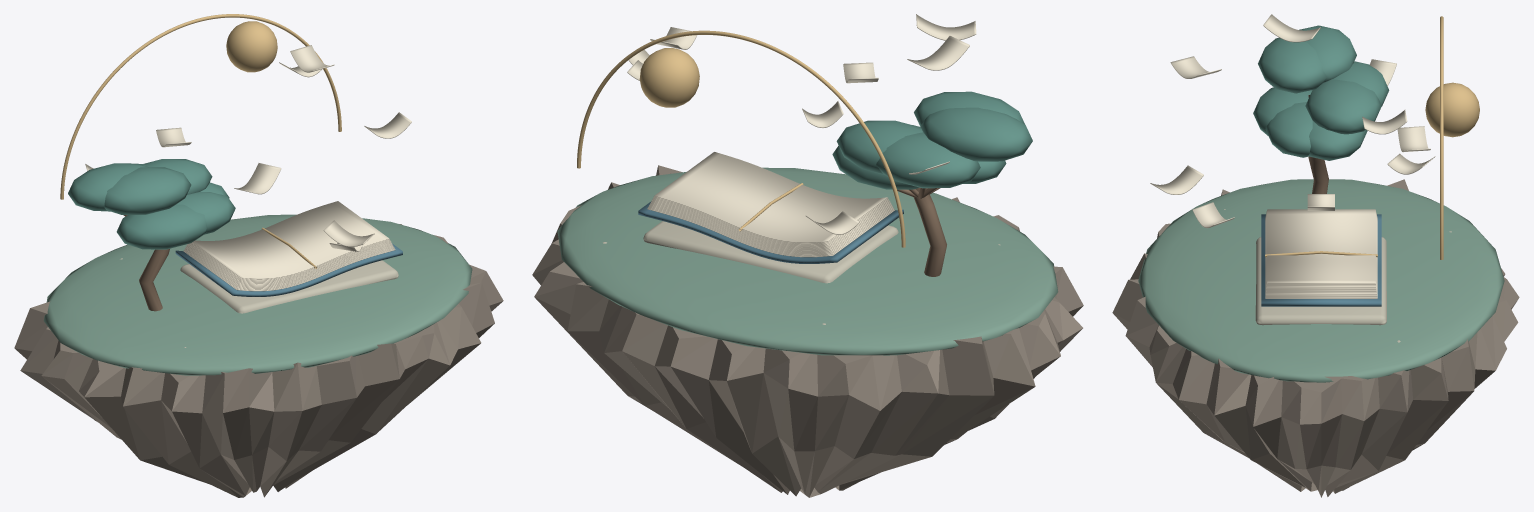
Rendered from book-island.glb.
3 views of the same model, side by side, from view 1: azimuth 30°, elevation 25°; view 2: azimuth 150°, elevation 25°; view 3: azimuth 270°, elevation 25° (orthographic). The views are drawn at different scales.
Parts seen in each view (by area): view 1: Island strata, Living moss, Book leaf 13, Bonsai crown.005, Book pedestal, Bonsai crown, Reading moon, Bonsai crown.002, Celestial arch, Open book cover, Bonsai crown.003, Bonsai crown.001 (+5 smaller); view 2: Island strata, Living moss, Book leaf 13, Bonsai crown.002, Book pedestal, Bonsai crown.004, Reading moon, Celestial arch, Bonsai crown.001, Open book cover, Bonsai crown.005, Bonsai trunk (+4 smaller); view 3: Living moss, Island strata, Book leaf 13, Book pedestal, Bonsai crown.001, Bonsai crown.005, Reading moon, Bonsai crown.003, Open book cover, Bonsai crown.002, Bonsai crown.006, Bonsai crown (+11 smaller).
Boxes of the visible parts, x1=… form: Island strata: x1=14, y1=224, x2=503, y2=497; Living moss: x1=43, y1=214, x2=472, y2=375; Book leaf 13: x1=192, y1=201, x2=389, y2=279; Bonsai crown.005: x1=104, y1=167, x2=191, y2=214; Book pedestal: x1=180, y1=260, x2=398, y2=313; Bonsai crown: x1=116, y1=204, x2=207, y2=249; Reading moon: x1=226, y1=21, x2=277, y2=72; Bonsai crown.002: x1=68, y1=163, x2=148, y2=211; Celestial arch: x1=60, y1=14, x2=341, y2=199; Open book cover: x1=175, y1=243, x2=402, y2=296; Bonsai crown.003: x1=177, y1=192, x2=235, y2=234; Bonsai crown.001: x1=144, y1=159, x2=212, y2=194; Island strata: x1=532, y1=165, x2=1083, y2=497; Living moss: x1=557, y1=167, x2=1058, y2=355; Book leaf 13: x1=654, y1=152, x2=887, y2=242; Bonsai crown.002: x1=920, y1=107, x2=1032, y2=161; Book pedestal: x1=643, y1=221, x2=898, y2=283; Bonsai crown.004: x1=876, y1=132, x2=980, y2=188; Reading moon: x1=639, y1=48, x2=699, y2=107; Celestial arch: x1=577, y1=30, x2=905, y2=247; Bonsai crown.001: x1=836, y1=120, x2=922, y2=174; Open book cover: x1=638, y1=201, x2=903, y2=263; Bonsai crown.005: x1=914, y1=91, x2=1025, y2=126; Bonsai trunk: x1=913, y1=187, x2=946, y2=276; Living moss: x1=1138, y1=179, x2=1504, y2=382; Island strata: x1=1112, y1=179, x2=1519, y2=497; Book leaf 13: x1=1267, y1=209, x2=1375, y2=283; Book pedestal: x1=1255, y1=237, x2=1386, y2=325; Bonsai crown.001: x1=1305, y1=79, x2=1381, y2=134; Bonsai crown.005: x1=1258, y1=37, x2=1326, y2=93; Reading moon: x1=1425, y1=82, x2=1479, y2=137; Bonsai crown.003: x1=1265, y1=102, x2=1312, y2=157; Open book cover: x1=1261, y1=214, x2=1381, y2=306; Bonsai crown.002: x1=1299, y1=25, x2=1356, y2=82; Bonsai crown.006: x1=1308, y1=121, x2=1367, y2=160; Bonsai crown: x1=1253, y1=87, x2=1312, y2=135.
Bounding box in the file's own units: 9.59 × 9.1 × 7.44.
